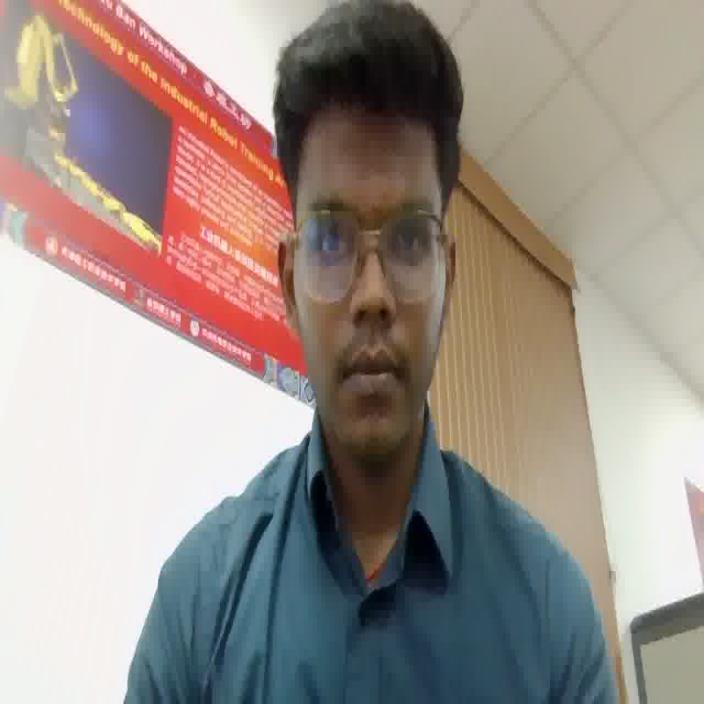know: (128, 0, 615, 703)
